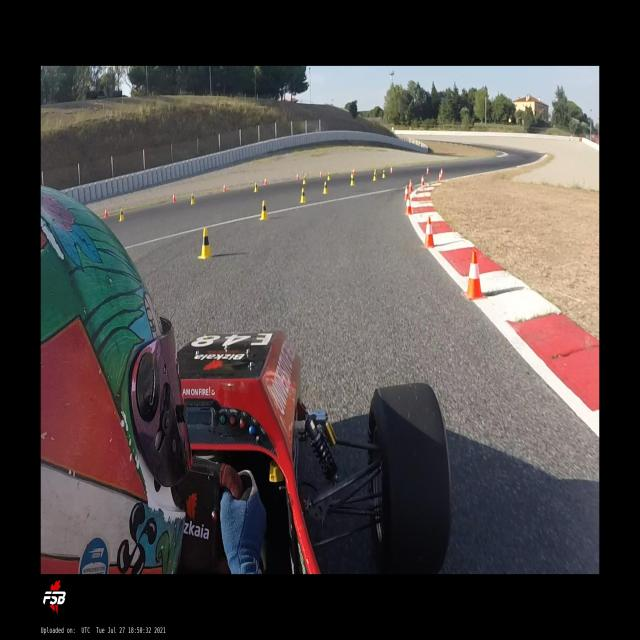orange_cone: (463, 251, 487, 300), (422, 216, 436, 247), (405, 194, 413, 215), (404, 184, 409, 201), (409, 179, 413, 192), (421, 175, 425, 186), (104, 207, 108, 218), (172, 192, 175, 202), (439, 172, 442, 181), (441, 168, 444, 177), (223, 183, 226, 192), (426, 167, 429, 174), (296, 173, 299, 180), (264, 178, 267, 185), (390, 167, 393, 173), (353, 168, 355, 176), (320, 170, 322, 178)
yellow_cone: (197, 227, 214, 259), (259, 200, 269, 220), (299, 188, 307, 204), (118, 208, 125, 222), (322, 181, 328, 194), (190, 193, 196, 205), (350, 174, 354, 186), (327, 171, 331, 181), (302, 175, 306, 185), (350, 170, 354, 180), (373, 171, 376, 181), (254, 182, 257, 192), (382, 170, 385, 178), (374, 168, 377, 176)
